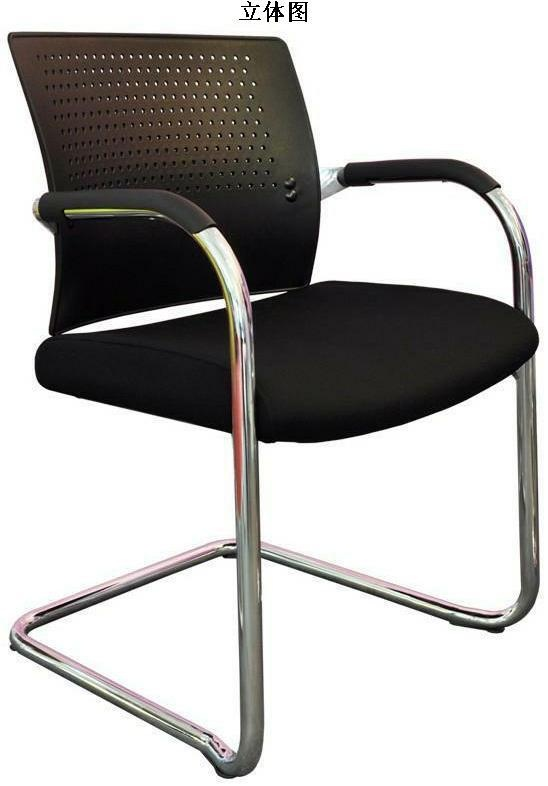obstacle: (9, 33, 538, 776)
